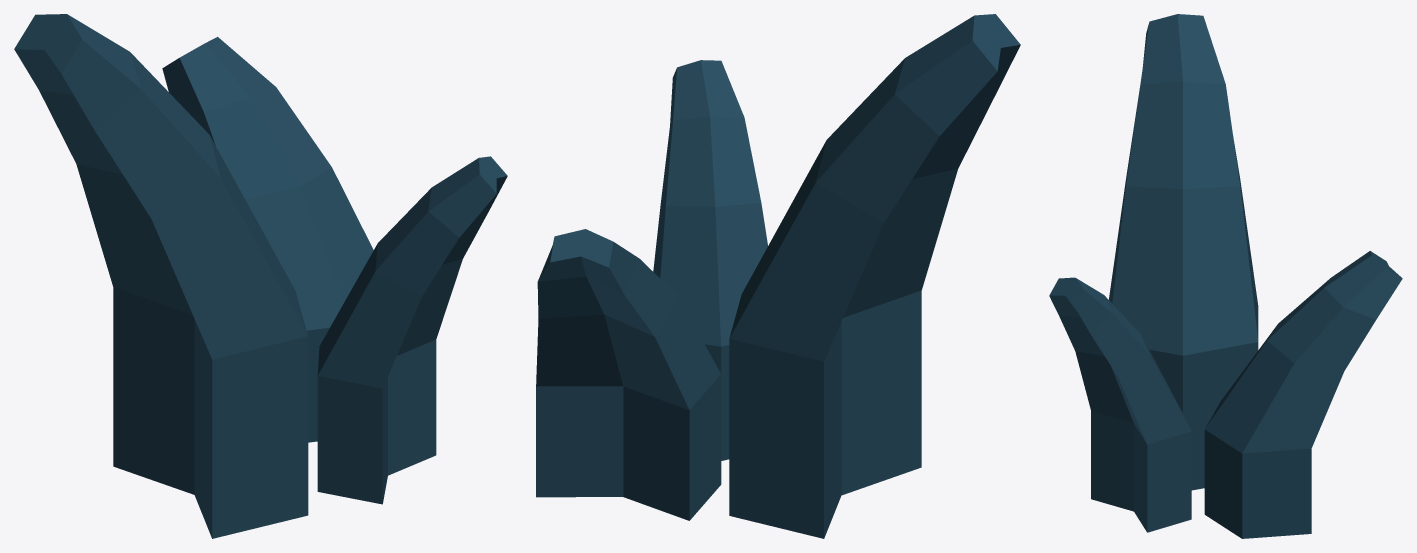
File: grama.fbx
3 views of the same model, side by side, from view 1: azimuth 30°, elevation 25°; view 2: azimuth 150°, elevation 25°; view 3: azimuth 270°, elevation 25° (orthographic). The views are drawn at different scales.
Visible parts, largest first — view 1: Cube; view 2: Cube; view 3: Cube.
Boxes of the visible parts, x1,y1,x2,y2 form: Cube: (14, 14, 507, 538); Cube: (536, 14, 1020, 538); Cube: (1049, 14, 1402, 538).
Size of the model in its own units: 45.35 by 54.31 by 44.41.
